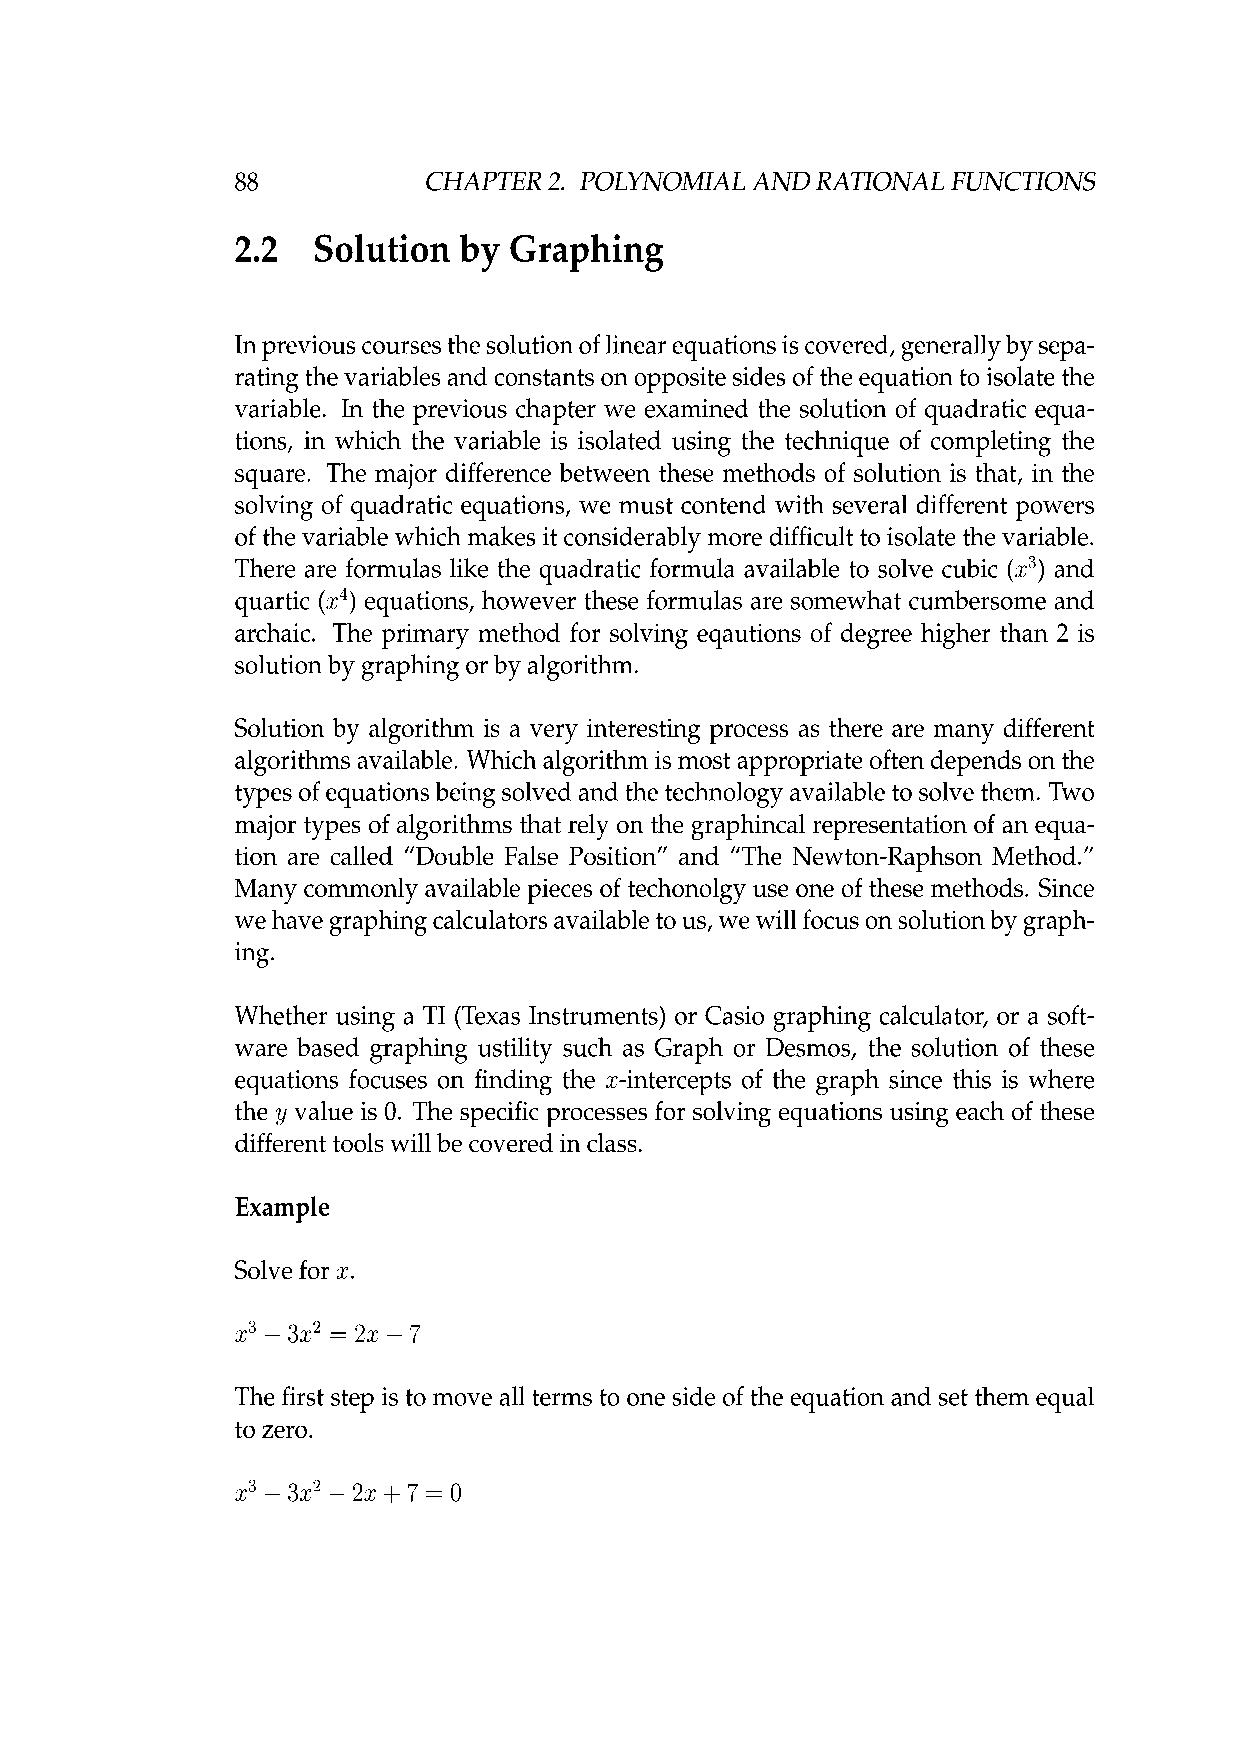chapter: (231, 225, 662, 271)
content: (225, 321, 1100, 1512)
content_chapter: (419, 162, 1094, 196)
content_pagenumber: (228, 162, 264, 193)
